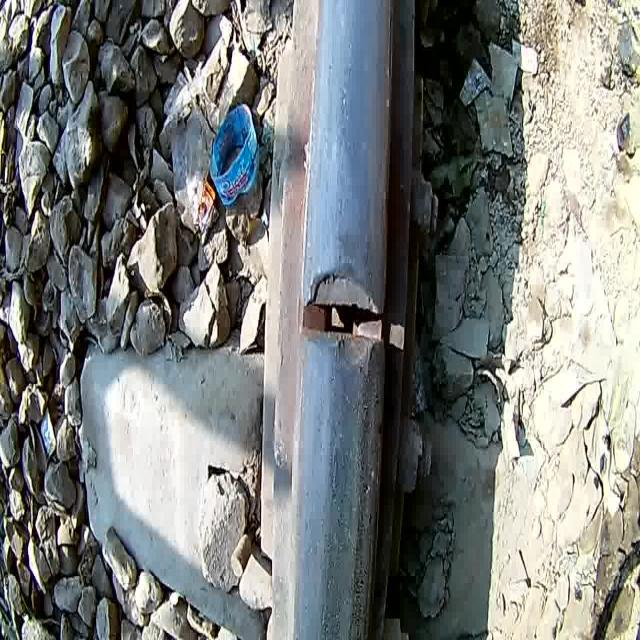Joint: (286, 252, 402, 378)
